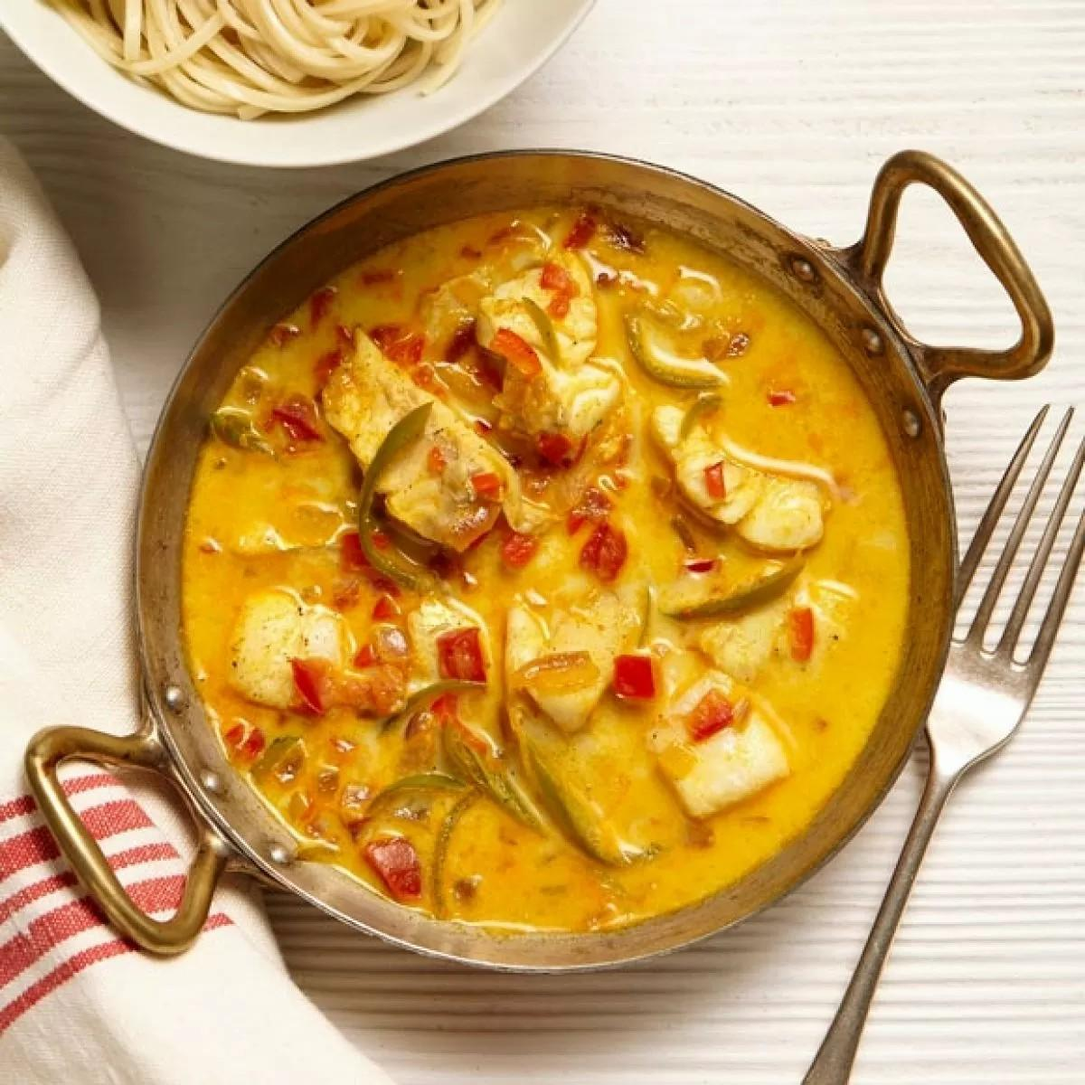FishCurry: (182, 200, 905, 932)
